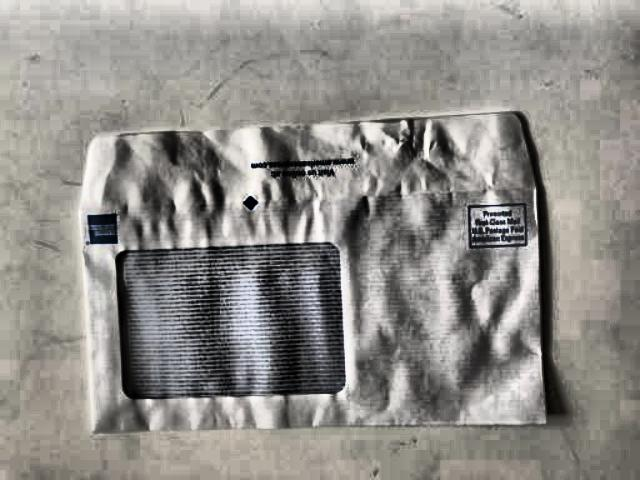Paper: (84, 109, 552, 428)
